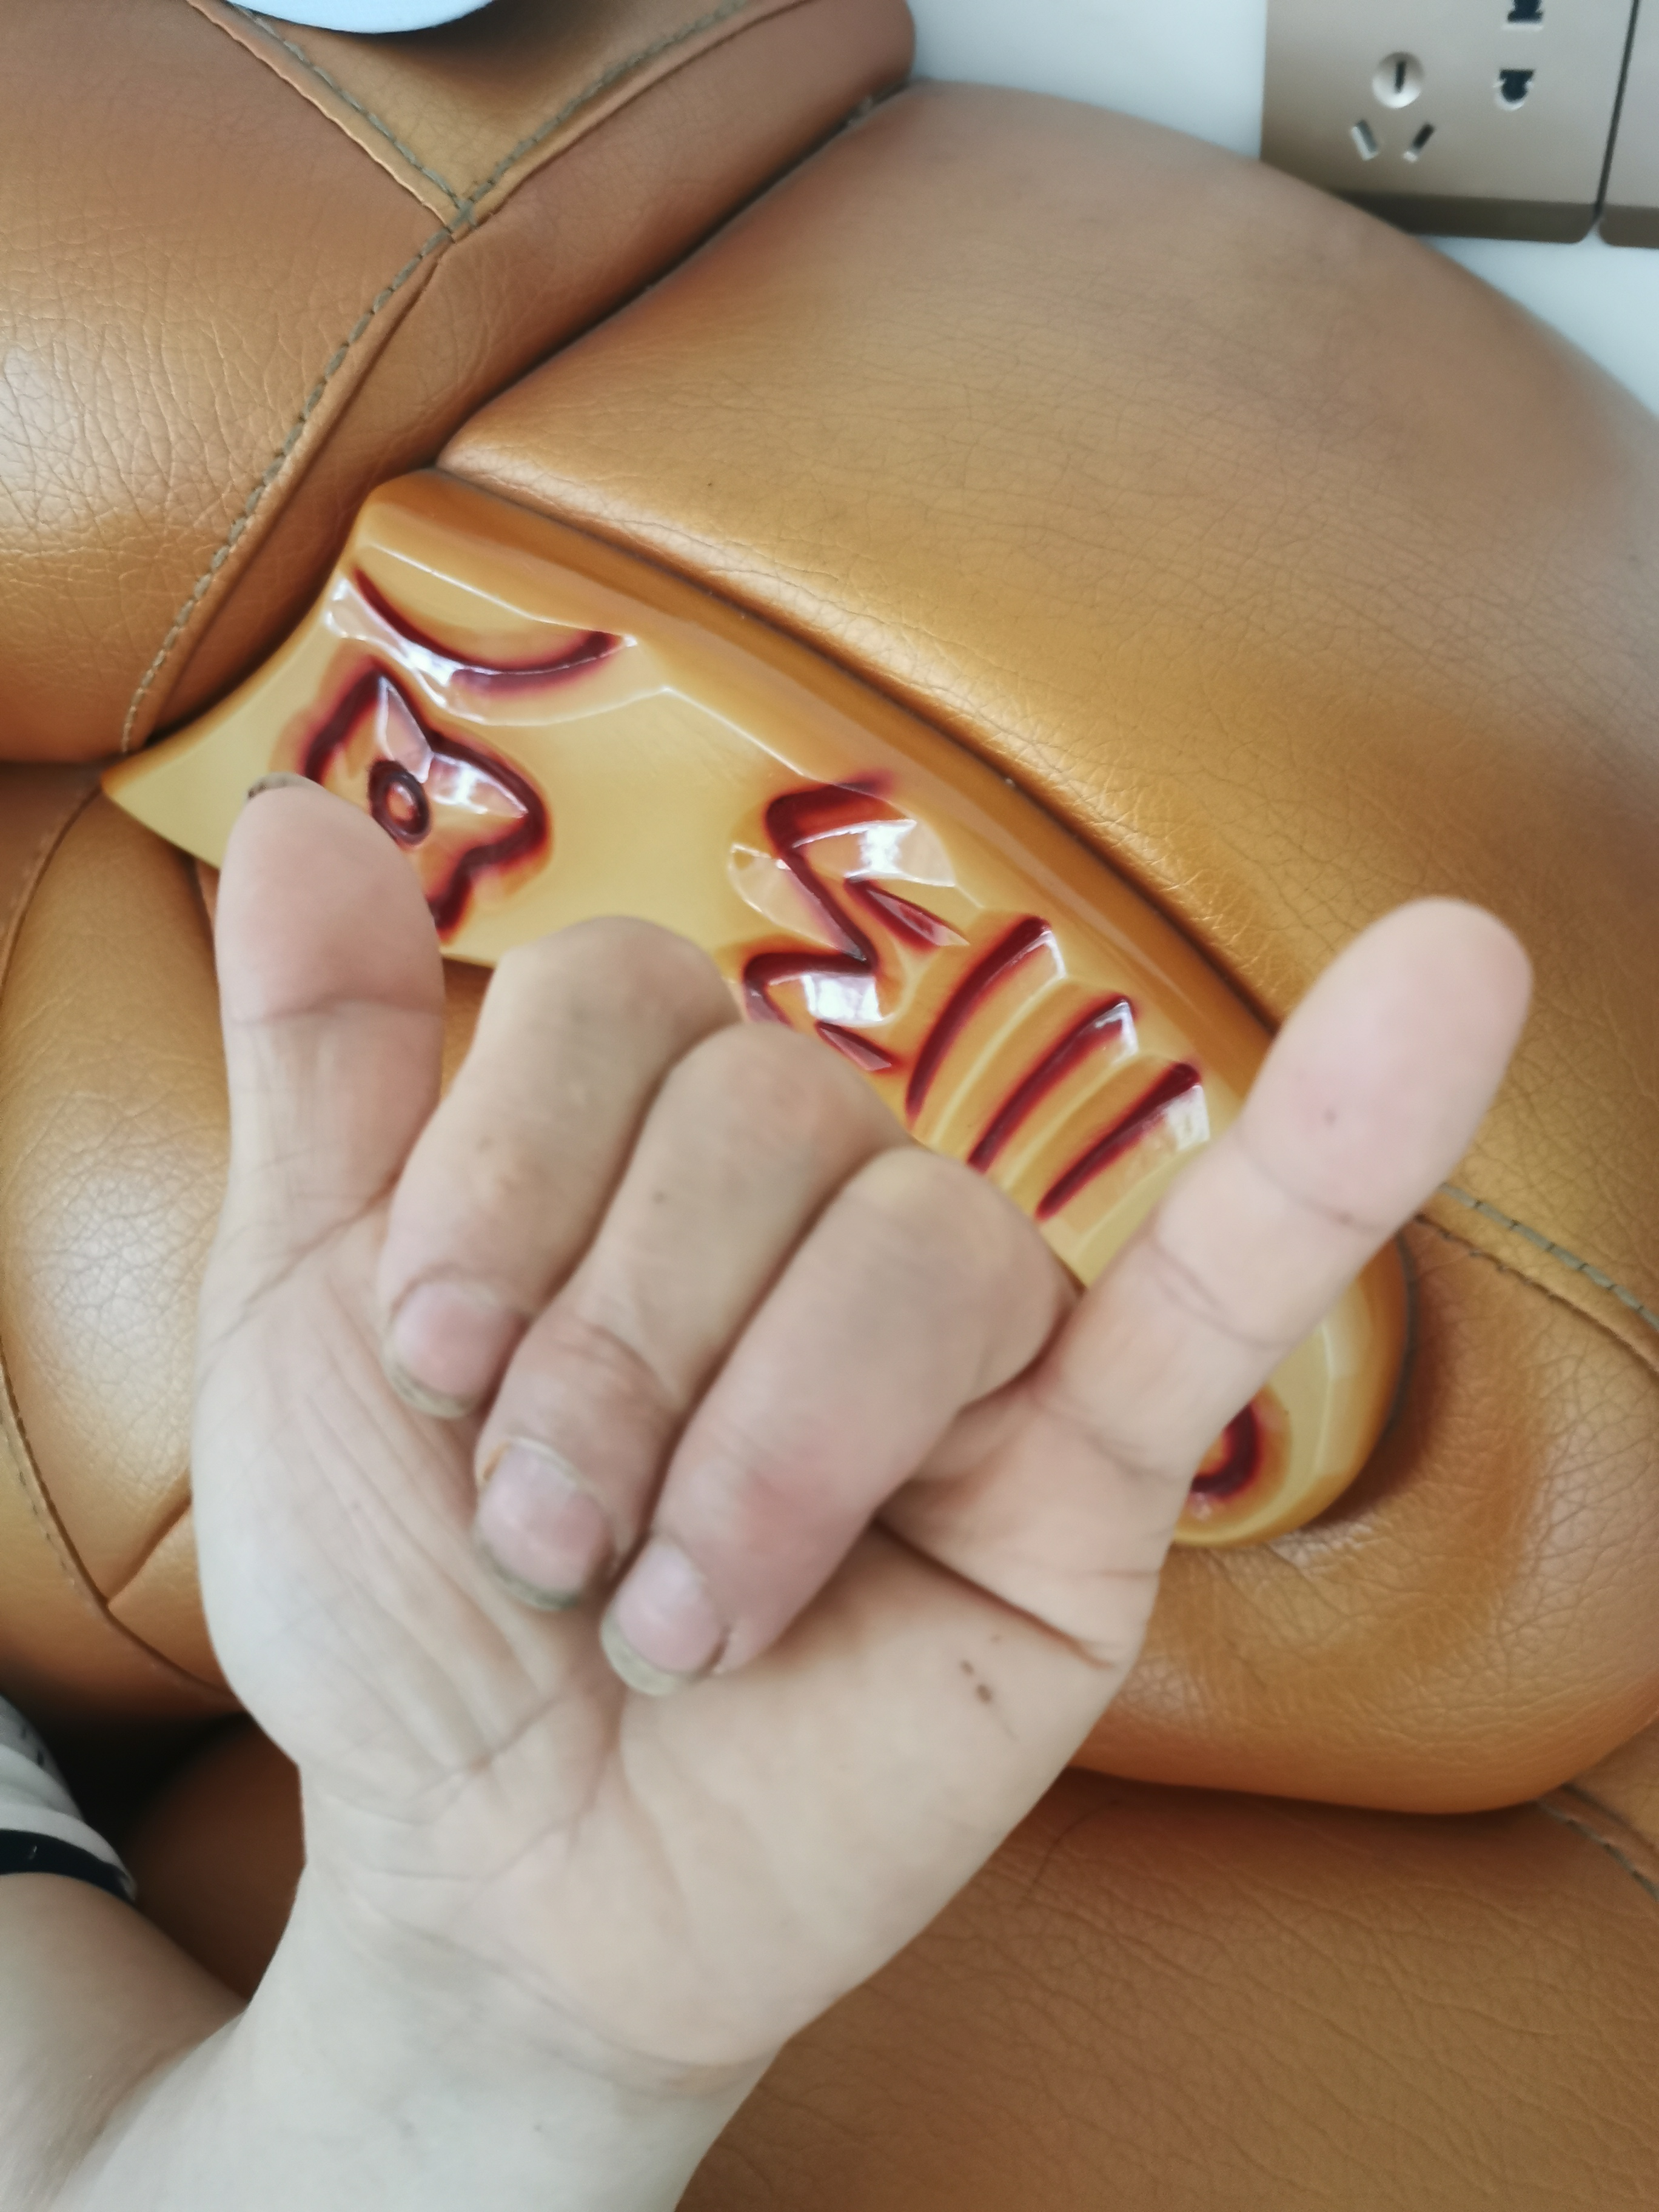clockwise: (183, 766, 1540, 1902)
